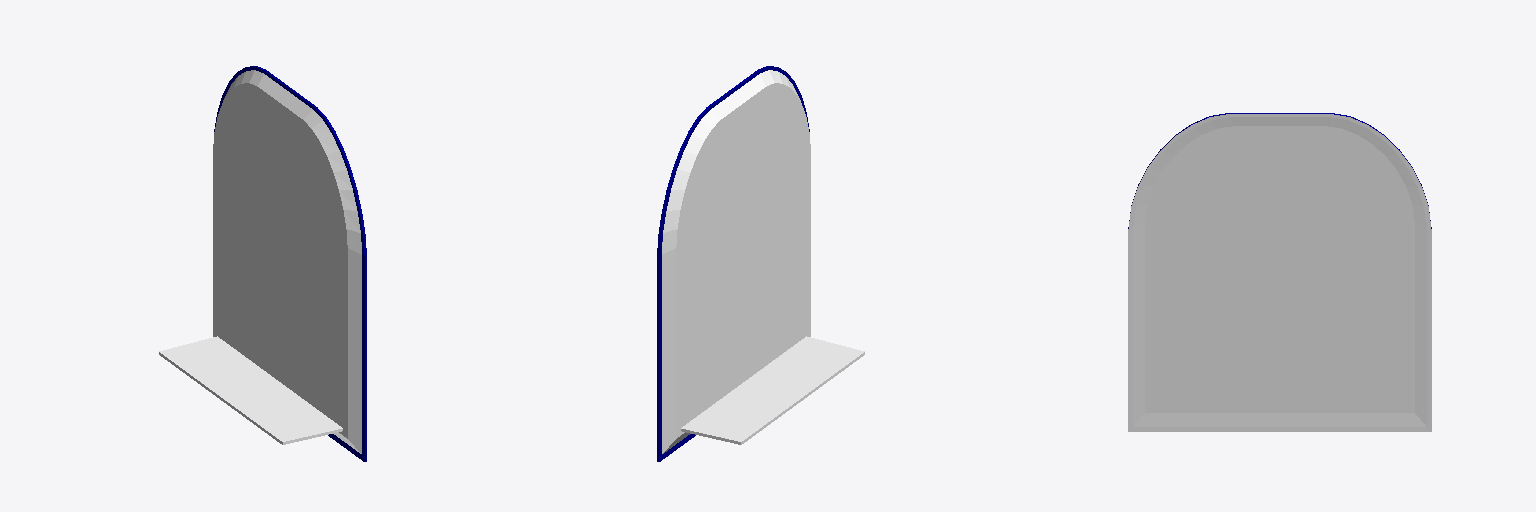
The model's file is Mirror_1.obj.
3 views of the same model, side by side, from view 1: azimuth 30°, elevation 25°; view 2: azimuth 150°, elevation 25°; view 3: azimuth 270°, elevation 25° (orthographic).
Parts seen in each view (by area): view 1: Cube.001; view 2: Cube.001; view 3: Cube.001.
Boxes of the visible parts, x1,y1,x2,y2 form: Cube.001: [159, 66, 366, 461]; Cube.001: [657, 66, 864, 461]; Cube.001: [1128, 113, 1431, 431].
Size of the model in its own units: 0.7756 by 3.33 by 2.88.